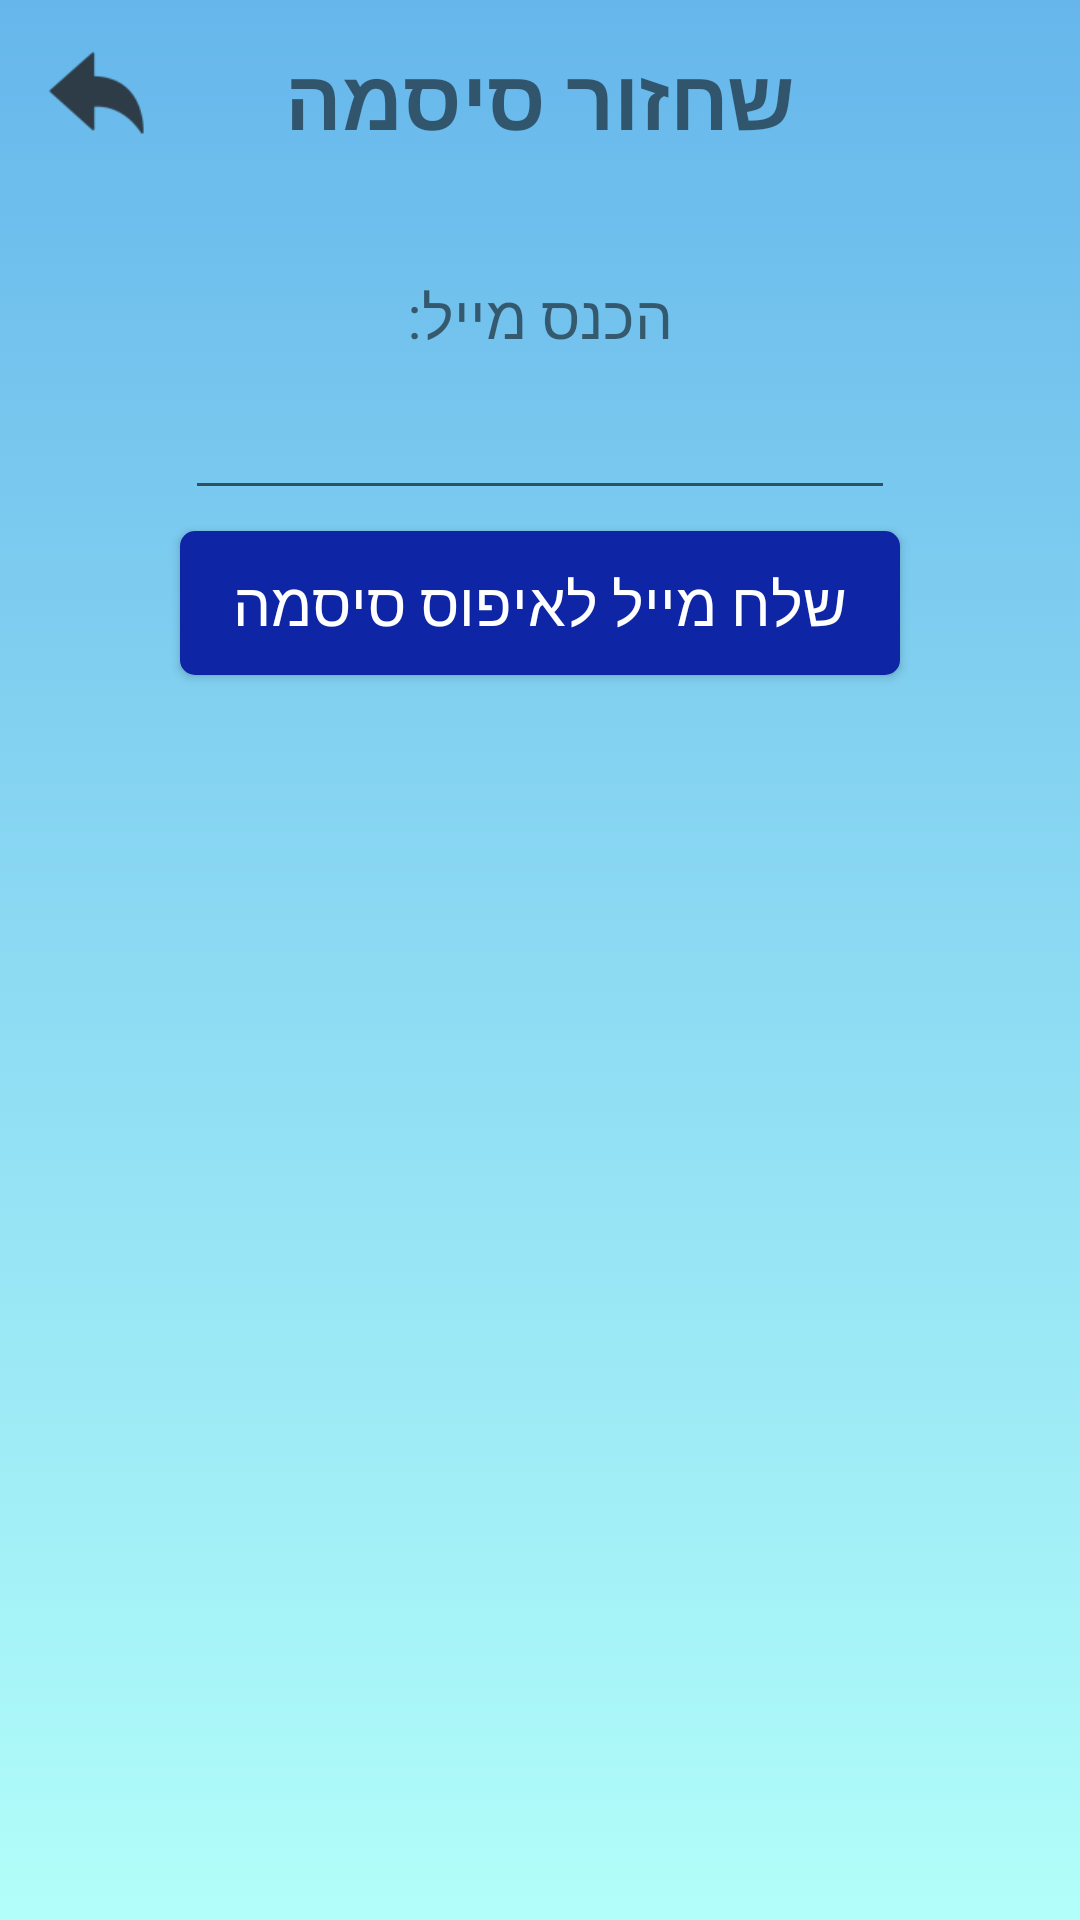

Locate icon controls on the screen. Image size 1080px x 1920px, boxes as (x1, y1, x2, y2).
back button: (49, 52, 144, 134)
